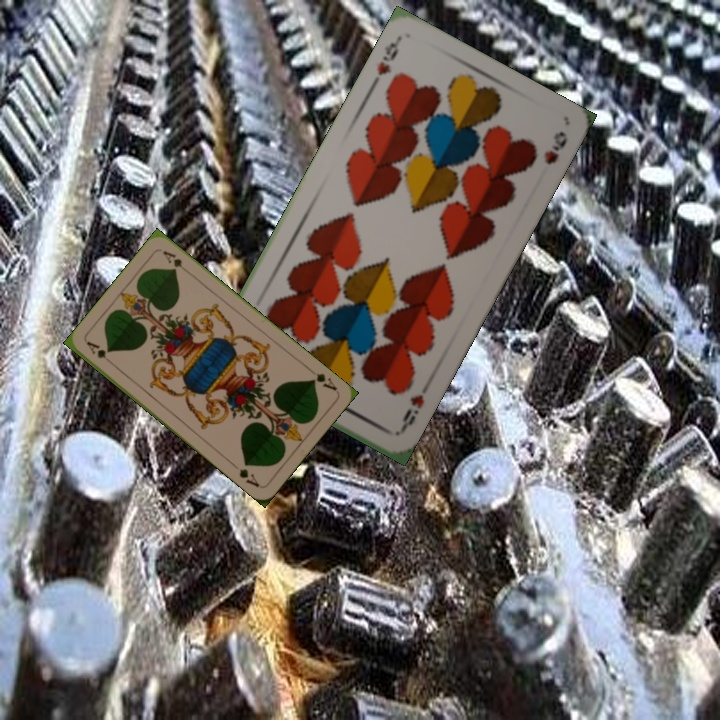GA: (83, 337, 117, 368), (307, 369, 340, 393)
H9: (396, 390, 427, 435), (373, 34, 403, 79)
